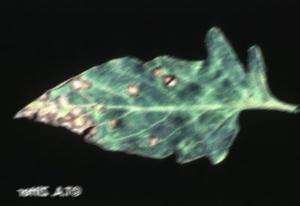Tomato Septoria leaf spot: (17, 22, 289, 176)
